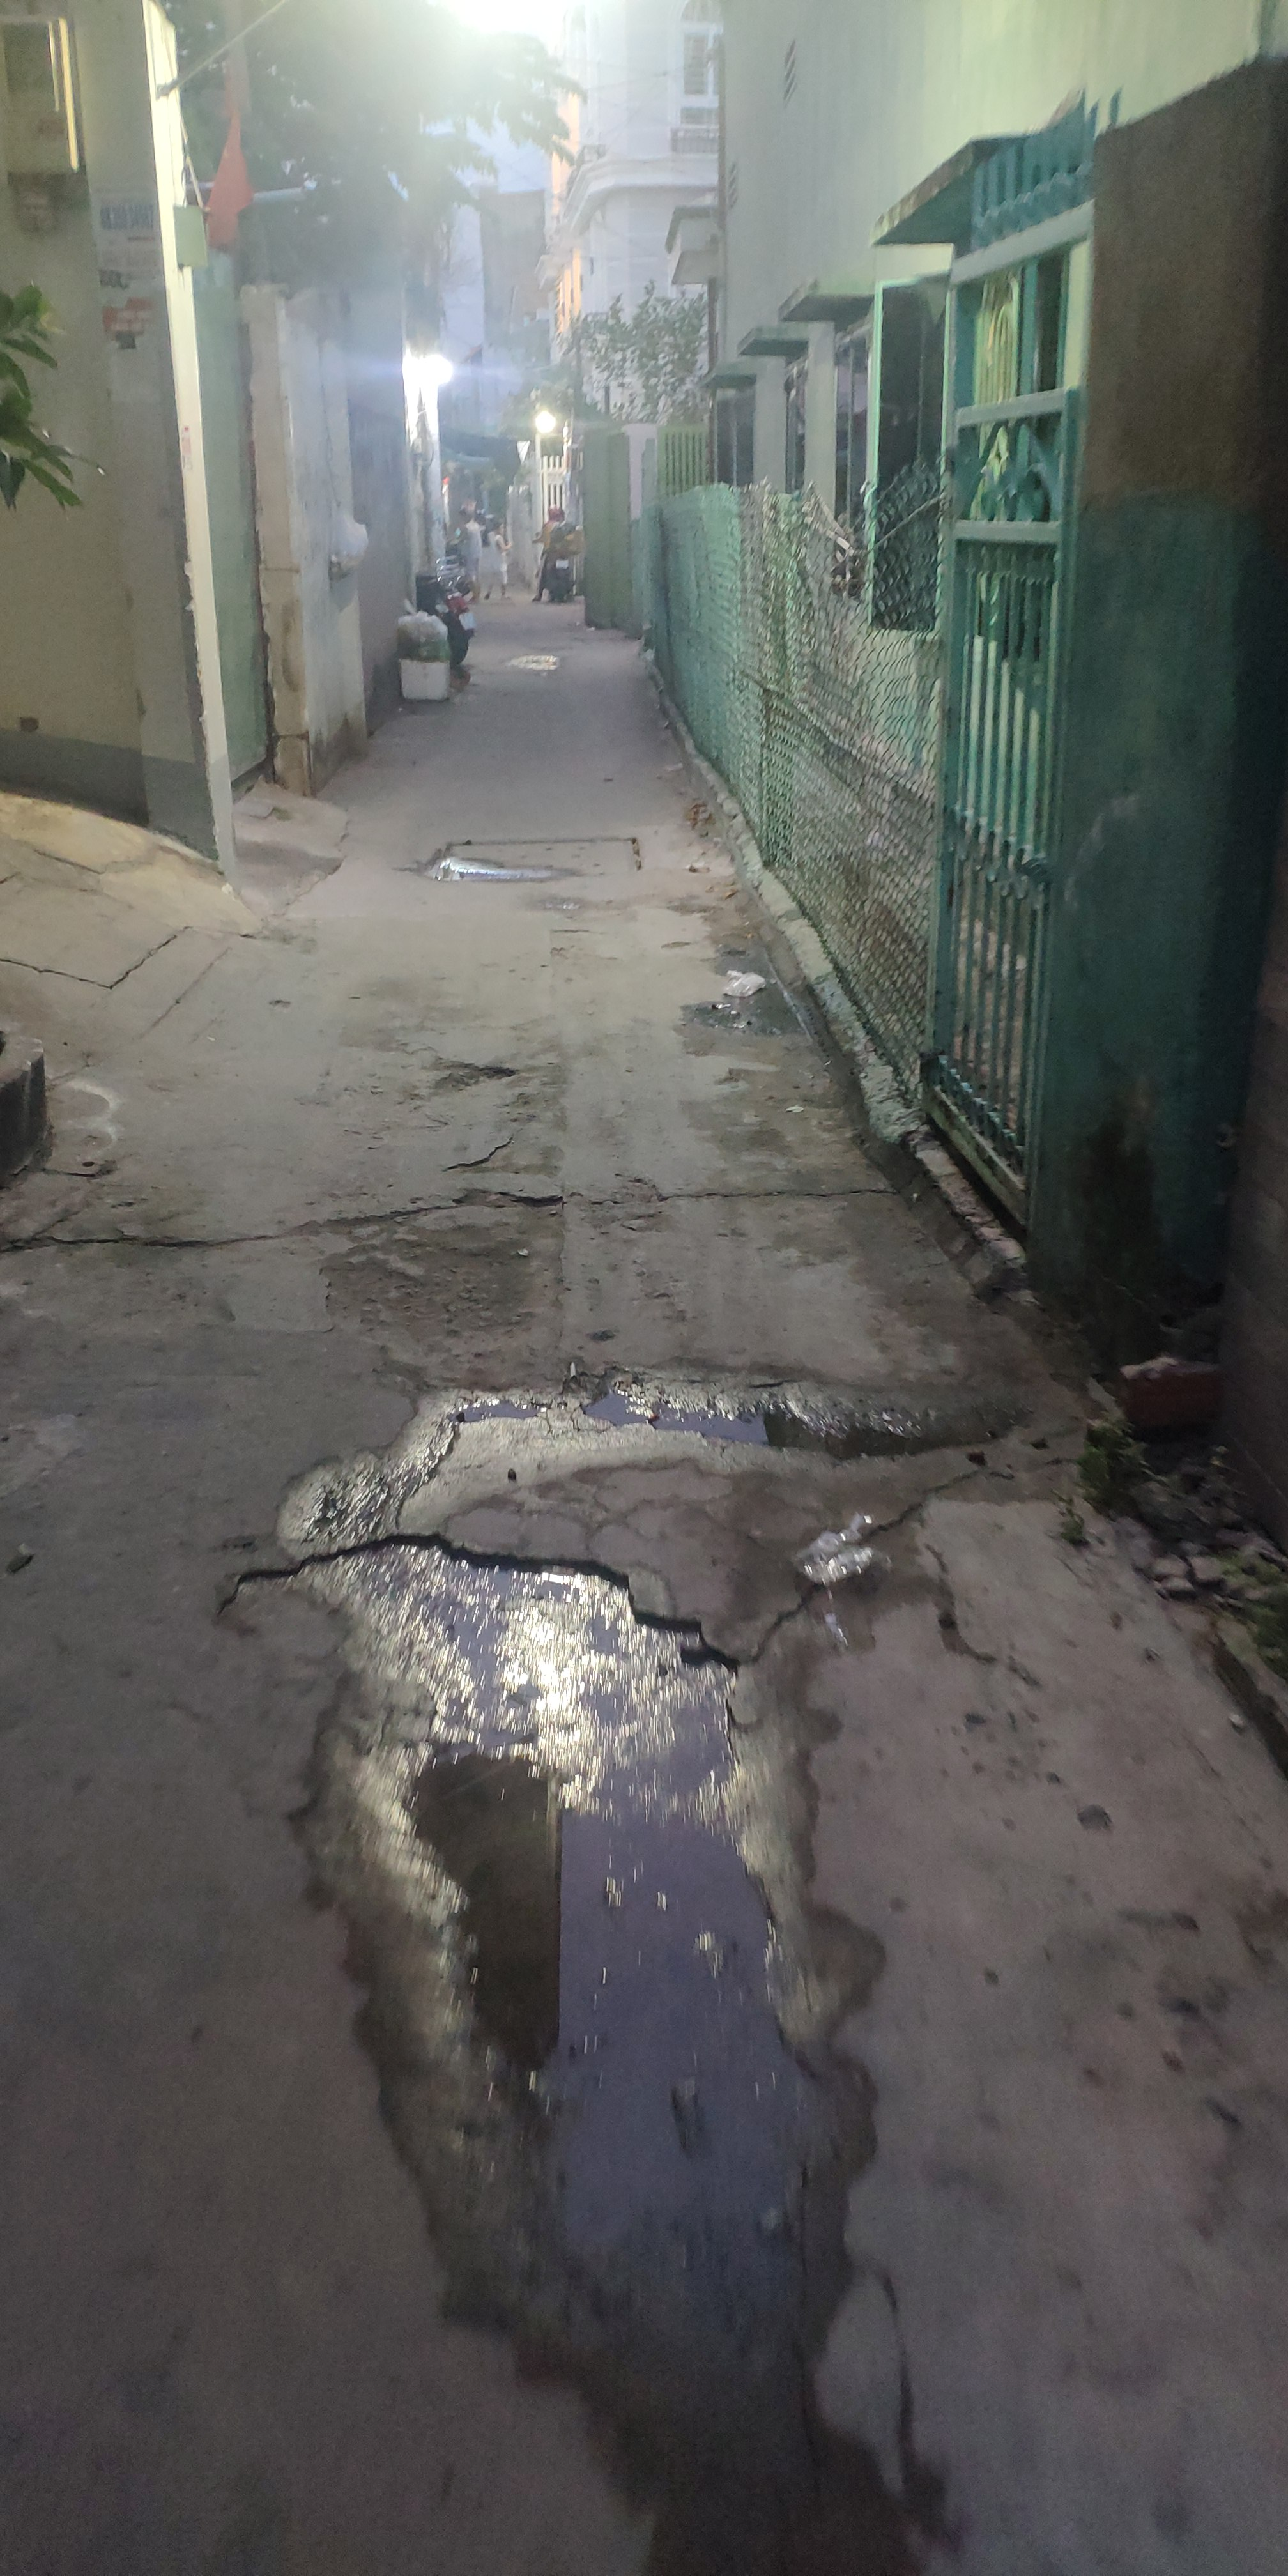hole: (210, 1536, 800, 2211), (445, 1127, 563, 1211), (406, 1055, 526, 1097), (499, 654, 565, 677)
